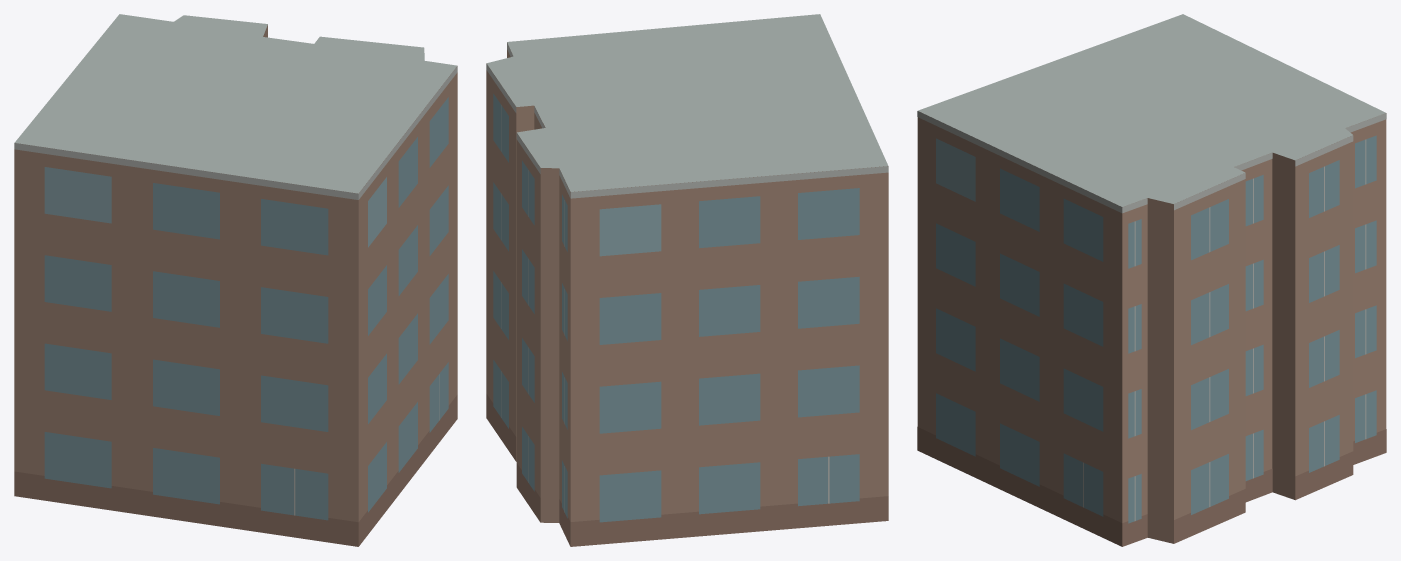
File: survey-upis-32629977.glb
The picture shows the model from 3 angles, left to right: view 1: azimuth 30°, elevation 25°; view 2: azimuth 150°, elevation 25°; view 3: azimuth 270°, elevation 25°; orthographic projection. The views are drawn at different scales.
Visible parts, largest first — view 1: survey-upis-32629977.tmp; view 2: survey-upis-32629977.tmp; view 3: survey-upis-32629977.tmp.
Part boxes in pixels (x1,y1,x2,y2): survey-upis-32629977.tmp: [14, 14, 457, 546]; survey-upis-32629977.tmp: [486, 14, 888, 546]; survey-upis-32629977.tmp: [917, 14, 1386, 546].
Size of the model in its own units: 16.1 by 13.2 by 16.52.
